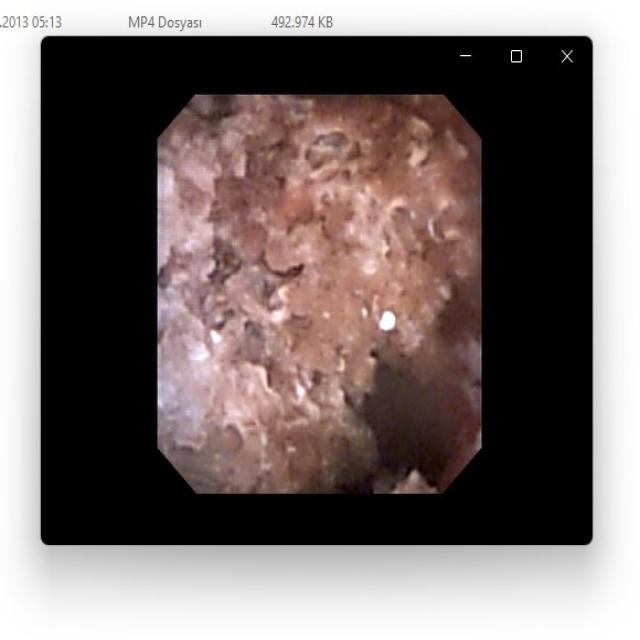stone: (164, 101, 475, 486)
